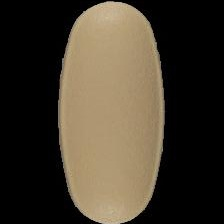50474-595: (0, 0, 224, 224)
